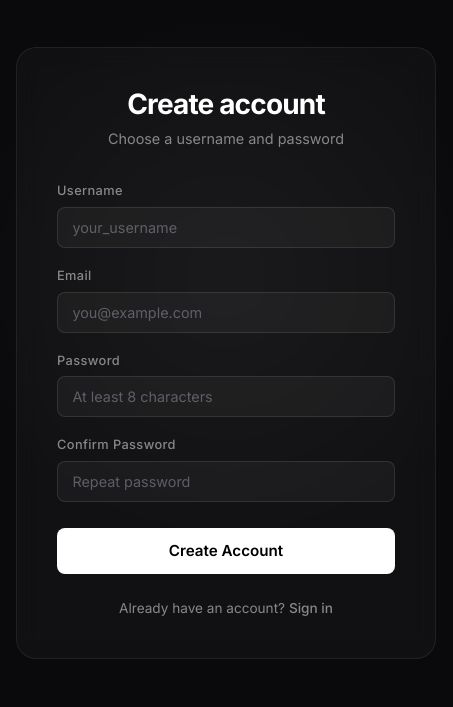
Test case: SignUp form — validation › rejects password shorter than 8 characters
Type "alice" into the field labelled "Username" at {"x": 226, "y": 228}, box x1=57 y1=207 x2=395 y2=248
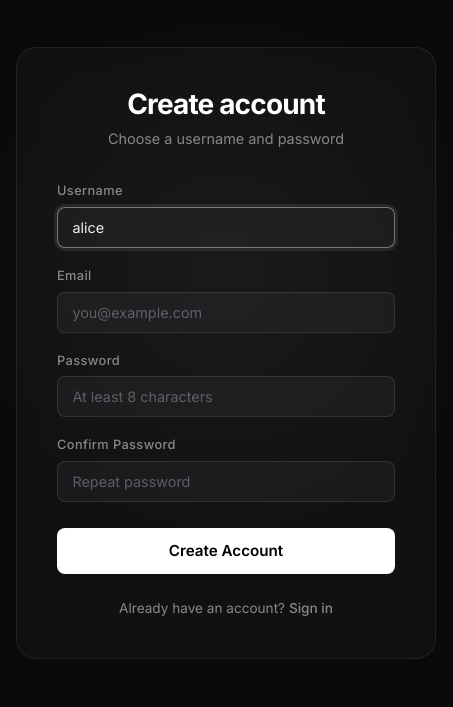
Type "alice@example.com" into the field labelled "Email" at {"x": 226, "y": 312}, box x1=57 y1=292 x2=395 y2=333
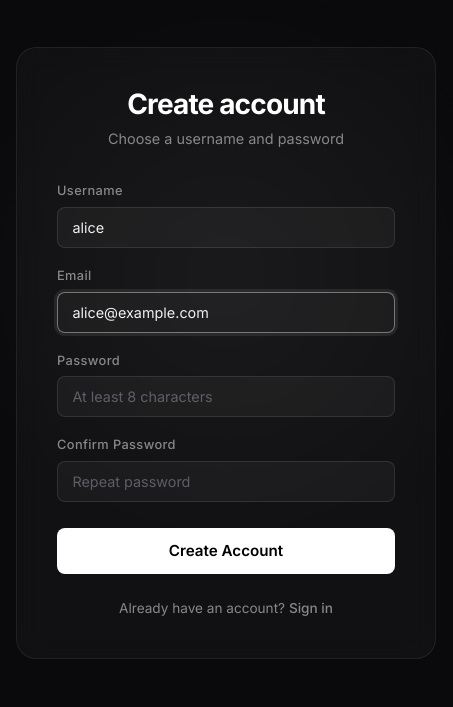
Type "short" into the password field labelled "Password" at {"x": 226, "y": 397}, box x1=57 y1=376 x2=395 y2=418
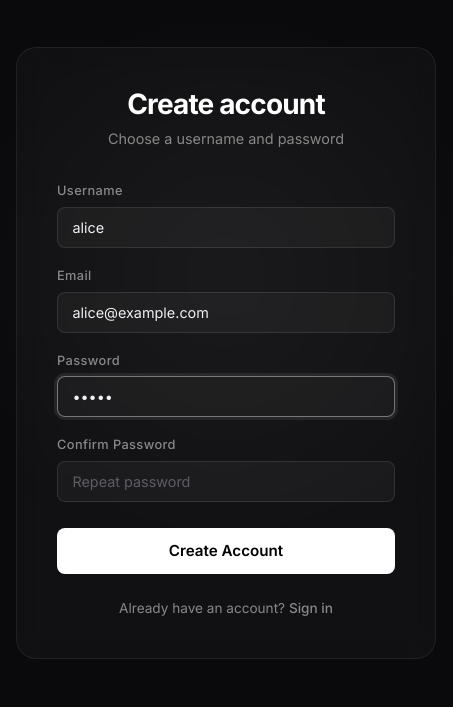
Click the button "Create Account" at {"x": 226, "y": 551}, box x1=57 y1=528 x2=395 y2=574
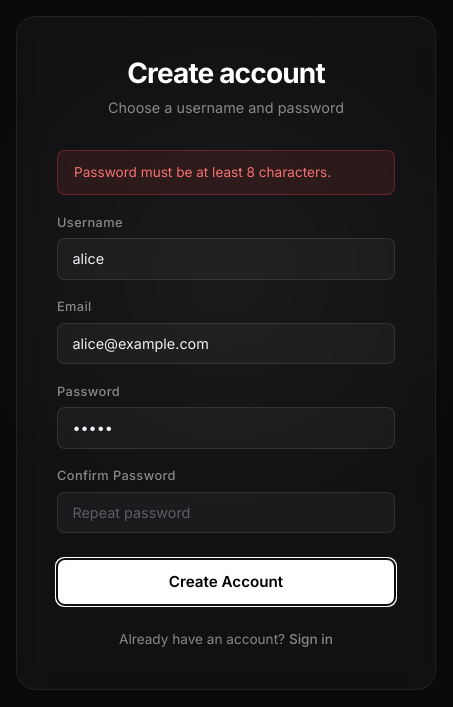
Expected: the text "Password must be at least 8 characters." is shown, x1=57 y1=150 x2=395 y2=195
